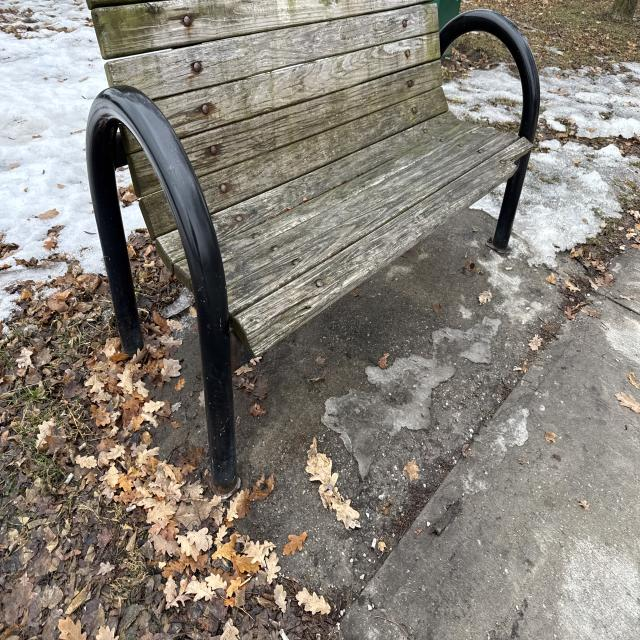Bench: (76, 0, 530, 295), (77, 4, 335, 433)
